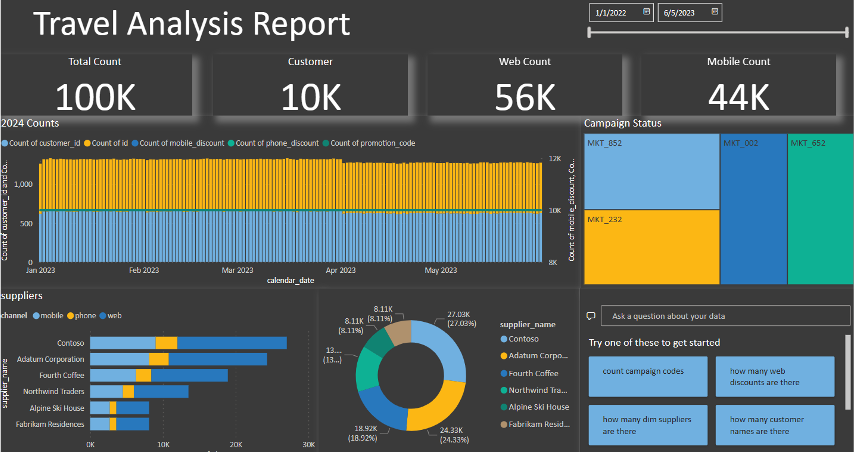

Layout of this report page (visuals, bound fields, positions):
{"tool":"powerbi","page":{"name":"1 페이지","canvas":[1280,720],"ordinal":0},"visuals":[{"type":"slicer","fields":{"Values":["dim_dates.calendar_date"]},"box":[868,16.2,412.3,85.9],"z":0},{"type":"lineStackedColumnComboChart","title":"2024 Counts","fields":{"Category":["dim_dates.calendar_date"],"Y":["Count(fact_sale.customer_id)","CountNonNull(fact_sale.id)"],"Y2":["CountNonNull(dim_promotions.mobile_discount)","CountNonNull(dim_promotions.phone_discount)","CountNonNull(dim_promotions.promotion_code)"]},"box":[0,193.2,867.6,256],"z":1000},{"type":"barChart","title":"suppliers","fields":{"Category":["dim_supplier.supplier_name"],"Y":["CountNonNull(fact_sale.id)"],"Series":["dim_purchase.channel"]},"box":[0,449.6,477.9,258.9],"z":2000},{"type":"donutChart","fields":{"Y":["CountNonNull(fact_sale.id)"],"Category":["dim_supplier.supplier_name"]},"box":[477.8,449.5,396.5,258.6],"z":3000},{"type":"treemap","title":"Campaign Status","fields":{"Values":["CountNonNull(fact_sale.id)"],"Group":["dim_promotions.campaign_code"]},"box":[868,193,412,256],"z":4000},{"type":"card","title":"Total Count","fields":{"Values":["CountNonNull(fact_sale.id)"]},"box":[0,101.9,290.4,91.3],"z":6000},{"type":"card","title":"Customer","fields":{"Values":["Count(fact_sale.customer_id)"]},"box":[321.2,101.9,290.4,91.3],"z":7000},{"type":"card","title":"Web Count","fields":{"Values":["CountNonNull(fact_sale.id)"]},"box":[640,101.9,290.4,91.3],"z":8000},{"type":"card","title":"Mobile Count","fields":{"Values":["CountNonNull(fact_sale.id)"]},"box":[958.8,101.9,290.4,91.3],"z":9000},{"type":"textbox","box":[0,16.6,859.3,75.9],"z":10000},{"type":"funnel","fields":{"Category":["dim_purchase.payment_instrument_type"],"Y":["Sum(fact_sale.purchase_amount)"]},"box":[874.3,450.4,405.7,257.6],"z":10001}]}

Visuals, with their boxes on the page's 1280x720 design canvas (x1, y1, x2, y2). These are canvas units, not pixel positions in the 855x453 screenshot, which may show the page scaled, cropped or inside an application window:
slicer - dim_dates.calendar_date: 868, 16, 1280, 102
"2024 Counts" lineStackedColumnComboChart: 0, 193, 868, 449
"suppliers" barChart: 0, 450, 478, 708
donutChart - CountNonNull(fact_sale.id) x dim_supplier.supplier_name: 478, 450, 874, 708
"Campaign Status" treemap: 868, 193, 1280, 449
"Total Count" card: 0, 102, 290, 193
"Customer" card: 321, 102, 612, 193
"Web Count" card: 640, 102, 930, 193
"Mobile Count" card: 959, 102, 1249, 193
textbox: 0, 17, 859, 92
funnel - dim_purchase.payment_instrument_type x Sum(fact_sale.purchase_amount): 874, 450, 1280, 708
